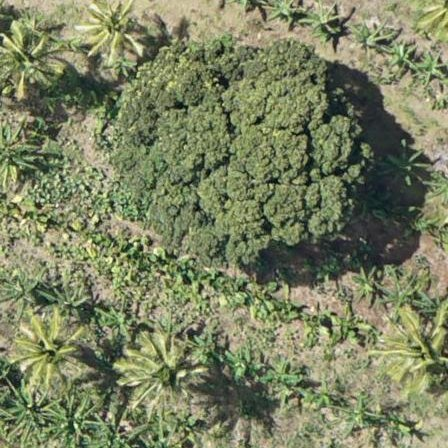palm_tree: (385, 306, 448, 392), (75, 1, 150, 65), (1, 15, 61, 93), (20, 317, 80, 381), (132, 343, 189, 403)
